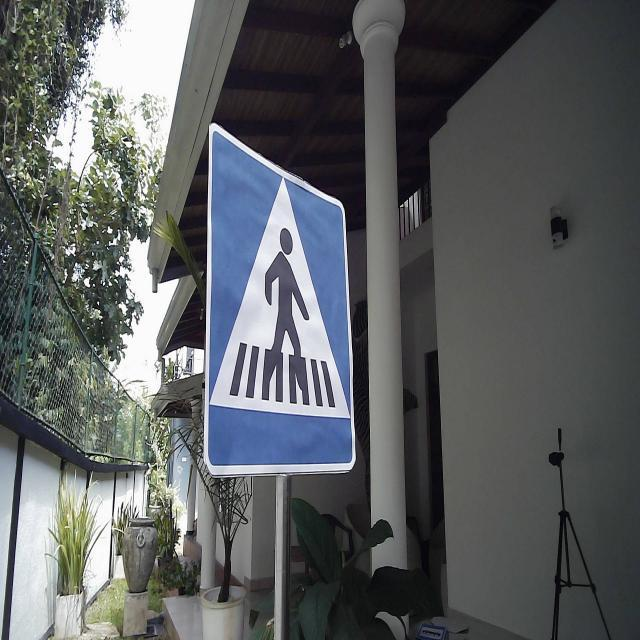crosswalk_sign: (202, 121, 358, 479)
